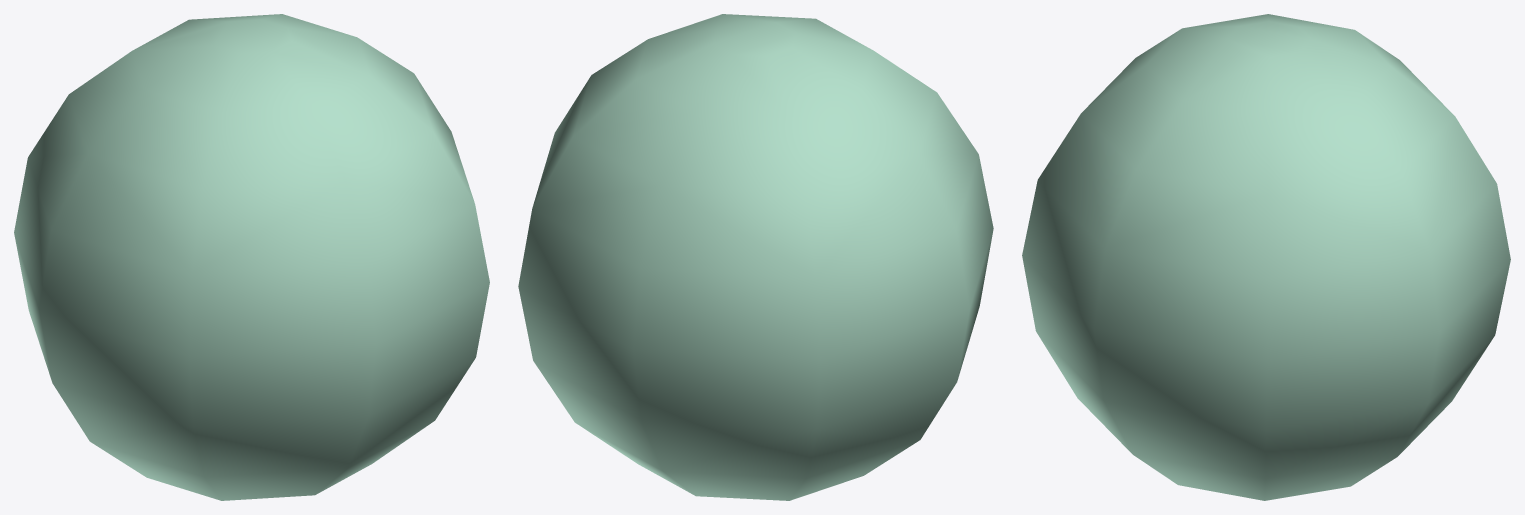
File: byib.hrc.gltf
3 views of the same model, side by side, from view 1: azimuth 30°, elevation 25°; view 2: azimuth 150°, elevation 25°; view 3: azimuth 270°, elevation 25° (orthographic).
Parts seen in each view (by area): view 1: byibBone0_null; view 2: byibBone0_null; view 3: byibBone0_null.
Boxes of the visible parts, x1,y1,x2,y2 form: byibBone0_null: (14,14,489,500); byibBone0_null: (518,14,993,500); byibBone0_null: (1022,14,1510,500).
Bounding box in the file's own units: 4.65 × 4.59 × 4.65.
